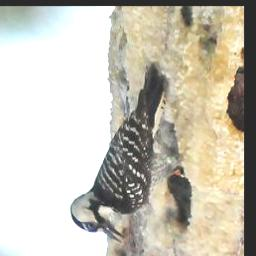Woodpecker: (67, 63, 185, 244)
